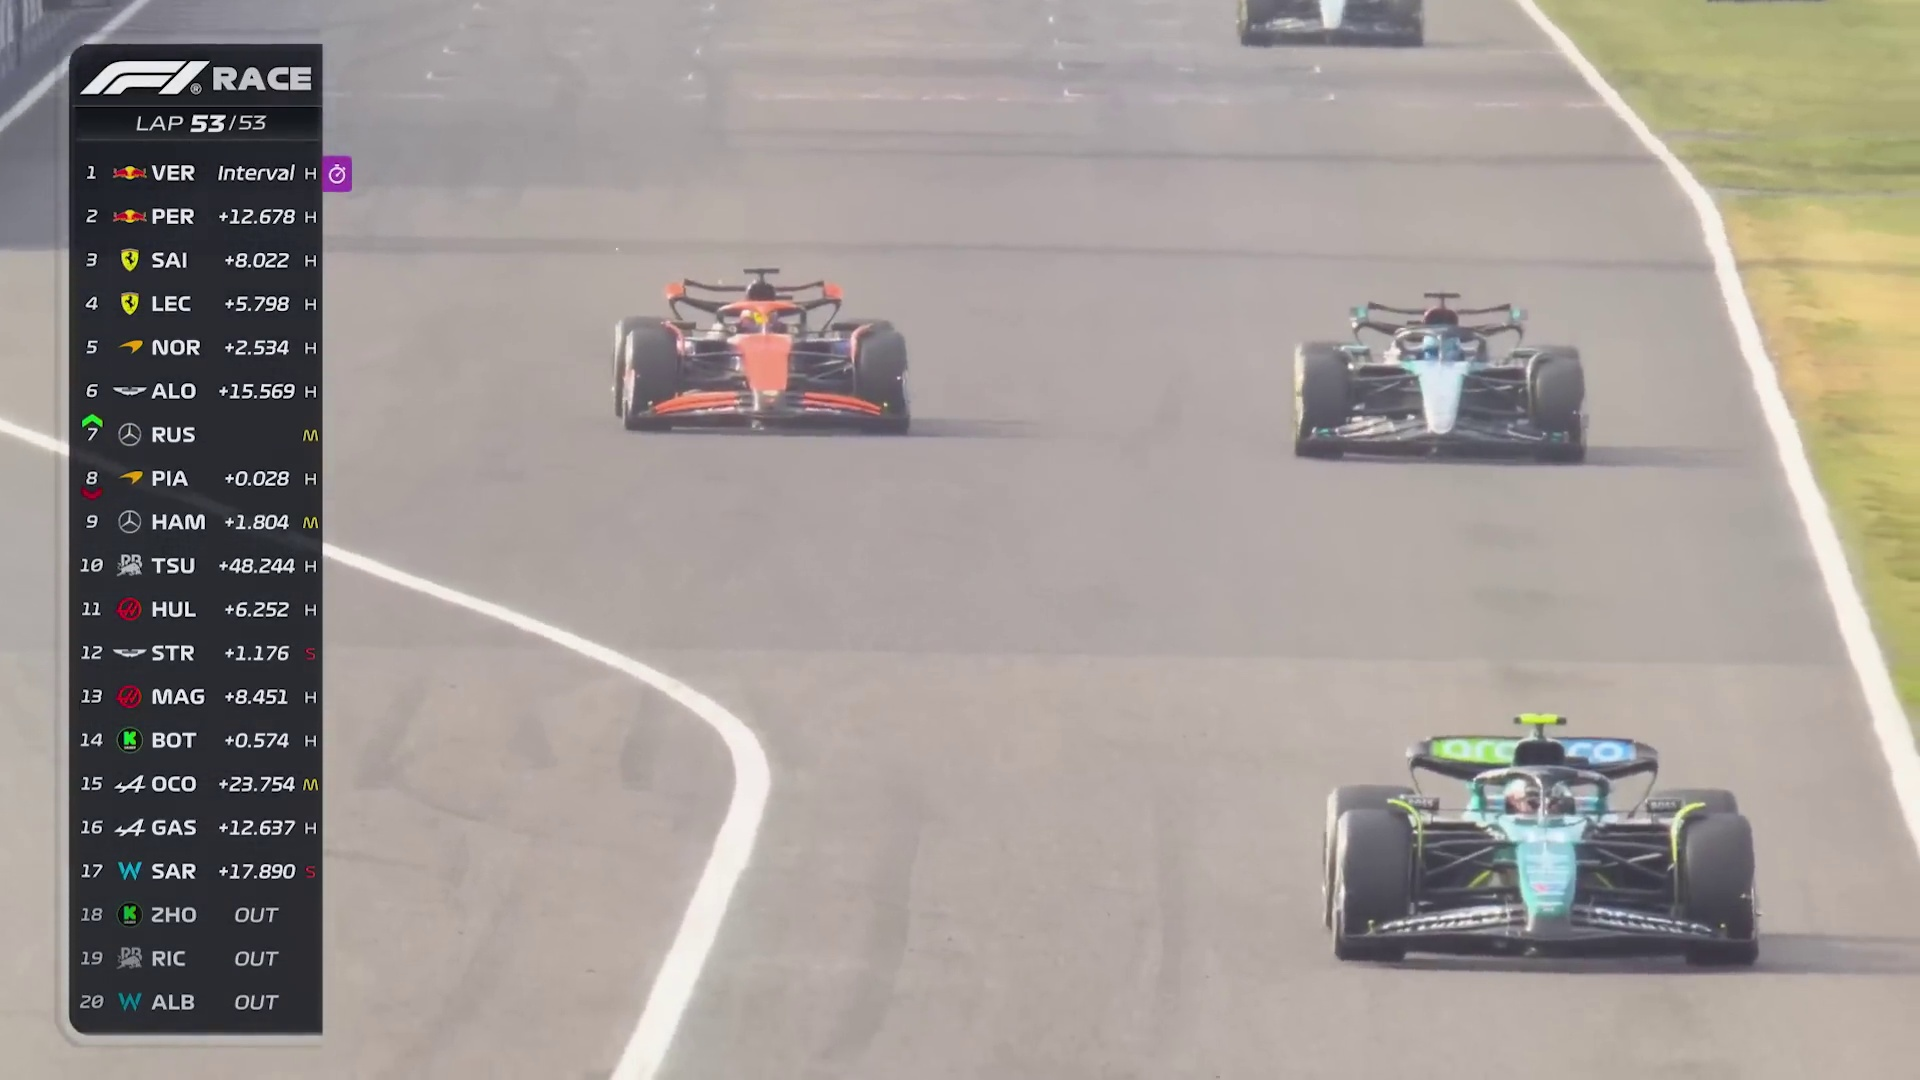AstonMartin: (1325, 735, 1760, 964)
Mclaren: (618, 281, 913, 431)
Mercedes: (1298, 305, 1589, 458), (1237, 1, 1425, 46)
